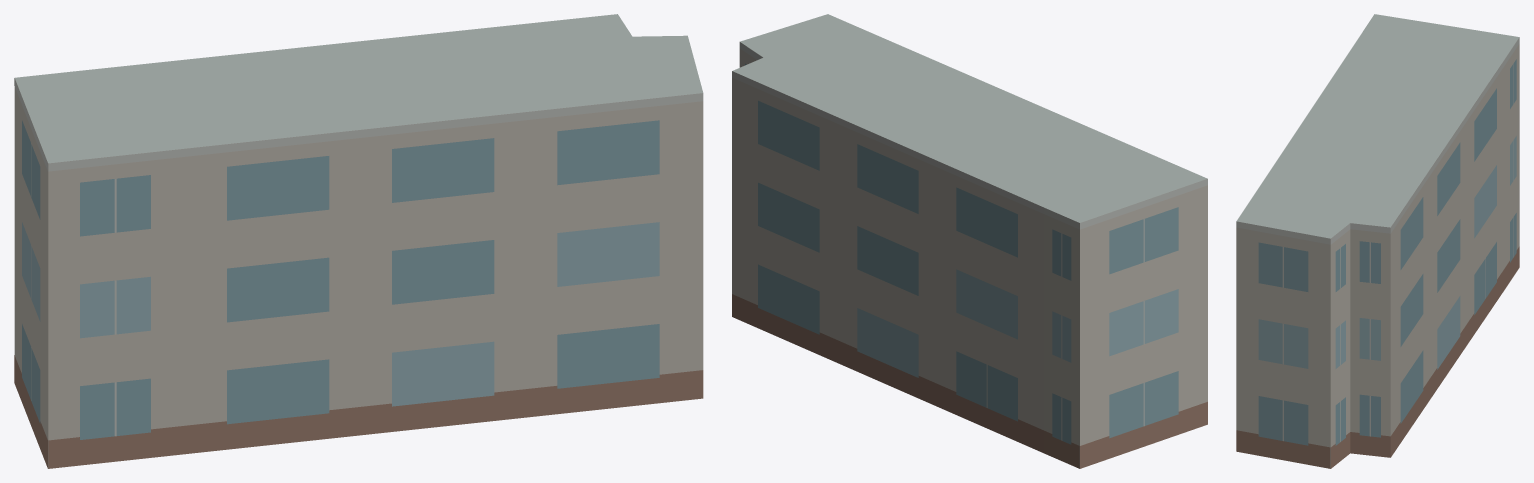
The model's file is survey-upis-32982328.glb.
3 views of the same model, side by side, from view 1: azimuth 30°, elevation 25°; view 2: azimuth 150°, elevation 25°; view 3: azimuth 270°, elevation 25° (orthographic). The views are drawn at different scales.
Visible parts, largest first — view 1: survey-upis-32982328.tmp; view 2: survey-upis-32982328.tmp; view 3: survey-upis-32982328.tmp.
Part boxes in pixels (x1,y1,x2,y2): survey-upis-32982328.tmp: (14, 14, 703, 468); survey-upis-32982328.tmp: (732, 14, 1207, 468); survey-upis-32982328.tmp: (1236, 14, 1519, 468).
Bounding box in the file's own units: 19.16 × 9.15 × 10.21.
